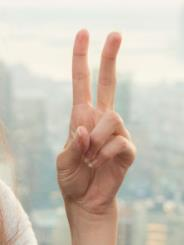front: (49, 24, 140, 216)
